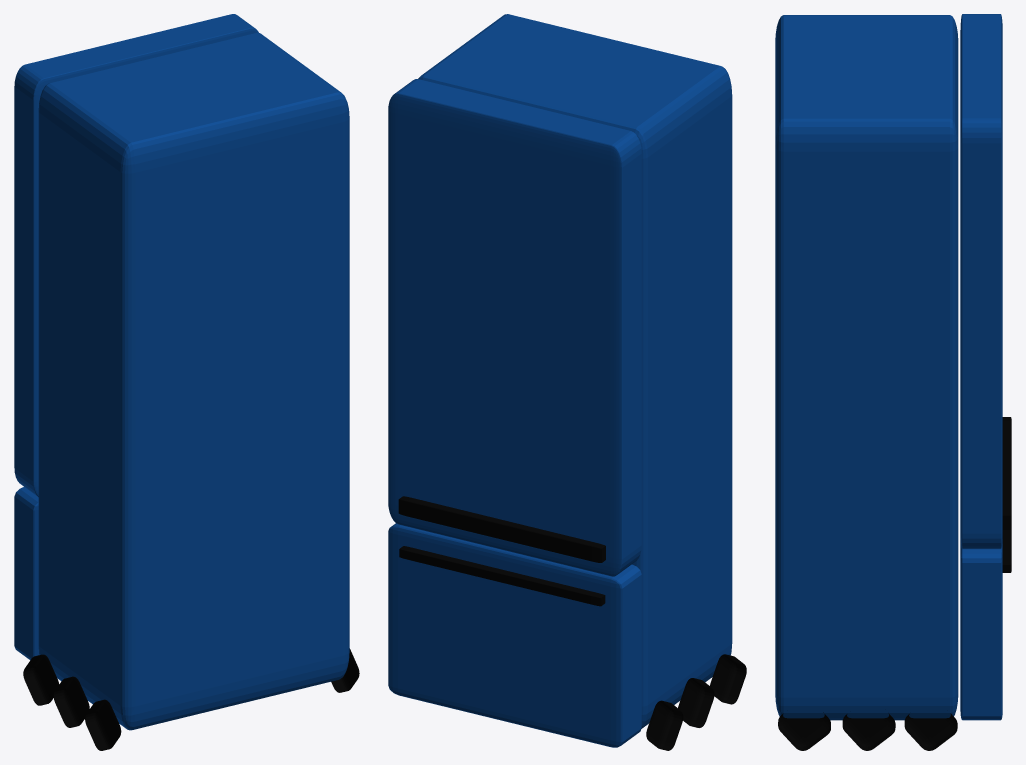
File: mid_fridge.glb
3 renders of one model, left to right at view 1: azimuth 30°, elevation 25°; view 2: azimuth 150°, elevation 25°; view 3: azimuth 270°, elevation 25°, orthographic. The views are drawn at different scales.
Visible parts, largest first — view 1: fridge_mid; view 2: fridge_mid; view 3: fridge_mid.
Boxes of the visible parts, <box> form: fridge_mid: <box>14,14,359,750</box>; fridge_mid: <box>388,14,746,750</box>; fridge_mid: <box>775,14,1011,750</box>.
Bounding box in the file's own units: 1.01 × 2.33 × 0.8017.
